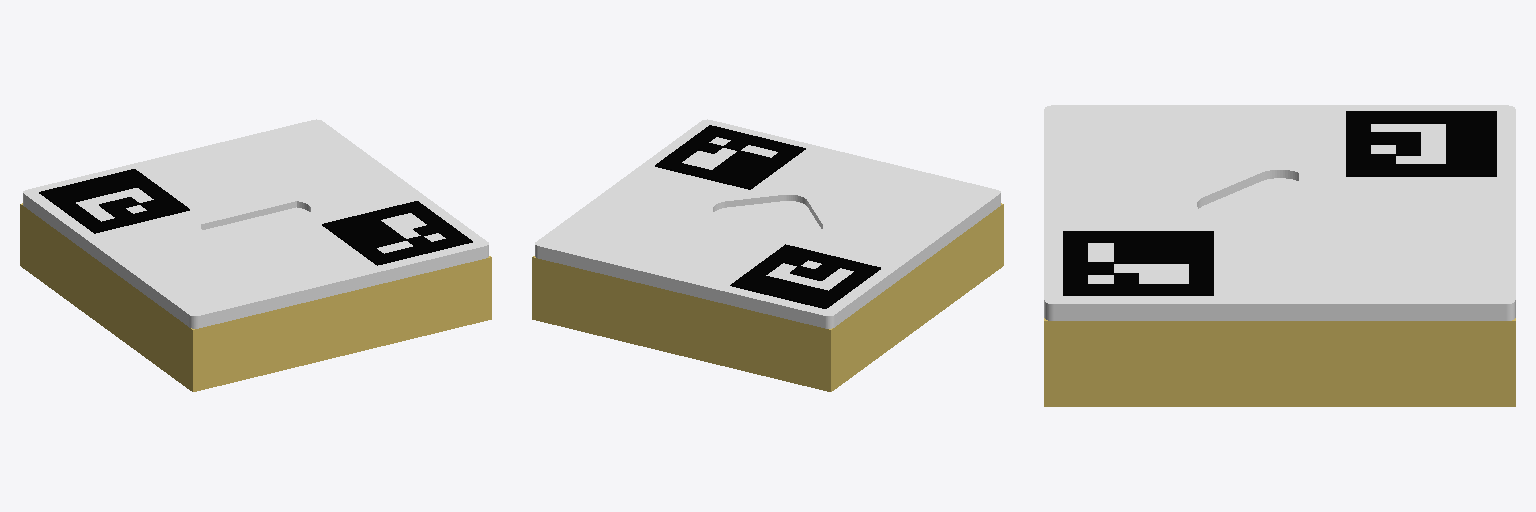
robot.urdf — base:
<?xml version="1.0"?>
<!-- base: standalone static model from base_01-02.step.
     Mesh in millimetres (scale 0.001). Link origin = STEP-file origin, unchanged.
     Mass/inertia assume density 1.24 g/cm^3 -> 94.8 g (material not given in the STEP). -->
<robot name="base">
  <material name="base_white"><color rgba="0.95 0.95 0.95 1.0"/></material>
  <material name="base_black"><color rgba="0.03 0.03 0.03 1.0"/></material>
  <material name="foam_yellow"><color rgba="0.90 0.80 0.45 1.0"/></material>
  <link name="base_link">
    <!-- white plate + black ArUco relief (split by step2stl.py); collision = whole base -->
    <visual>
      <geometry><mesh filename="meshes/base_plate.stl" scale="0.001 0.001 0.001"/></geometry>
      <material name="base_white"/>
    </visual>
    <visual>
      <geometry><mesh filename="meshes/base_markers.stl" scale="0.001 0.001 0.001"/></geometry>
      <material name="base_black"/>
    </visual>
    <collision>
      <geometry><mesh filename="meshes/base.stl" scale="0.001 0.001 0.001"/></geometry>
    </collision>
    <inertial>
      <origin xyz="-0.000007 0.000181 0.002541" rpy="0 0 0"/>
      <mass value="0.09475"/>
      <inertia ixx="1.2716e-04" ixy="2.5796e-06" ixz="1.8244e-09" iyy="1.2692e-04" iyz="-1.3724e-08" izz="2.5366e-04"/>
    </inertial>
  </link>

  <!-- foam pad under the base (measured: base + foam 30 mm high, foam has the
       base footprint); the assembly stands on the foam bottom, z = -25 mm -->
  <link name="foam">
    <visual>
      <origin xyz="0 0 -0.0125"/>
      <geometry><box size="0.125 0.125 0.025"/></geometry>
      <material name="foam_yellow"/>
    </visual>
    <collision>
      <origin xyz="0 0 -0.0125"/>
      <geometry><box size="0.125 0.125 0.025"/></geometry>
    </collision>
  </link>
  <joint name="base_link_to_foam" type="fixed">
    <parent link="base_link"/><child link="foam"/>
    <origin xyz="0 0 0" rpy="0 0 0"/>
  </joint>

  <!-- put any puzzle_X link origin here: its triangular foot (z -2.5..0) drops into the groove, groove floor at z=2.5 -->
  <link name="puzzle_mount"/>
  <joint name="base_link_to_puzzle_mount" type="fixed">
    <parent link="base_link"/><child link="puzzle_mount"/>
    <origin xyz="0.00000 0.00000 0.00500" rpy="0 0 0"/>
  </joint>

  <!-- centre of the ArUco 4x4 marker (40x40 mm, black relief z 5.0..5.6), upper-left -->
  <link name="guide_1"/>
  <joint name="base_link_to_guide_1" type="fixed">
    <parent link="base_link"/><child link="guide_1"/>
    <origin xyz="-0.03750 0.03750 0.00500" rpy="0 0 0"/>
  </joint>

  <!-- centre of the ArUco 4x4 marker (40x40 mm, black relief z 5.0..5.6), lower-right -->
  <link name="guide_2"/>
  <joint name="base_link_to_guide_2" type="fixed">
    <parent link="base_link"/><child link="guide_2"/>
    <origin xyz="0.03750 -0.03750 0.00500" rpy="0 0 0"/>
  </joint>
</robot>

--- Facts derived from the render (not from the file) ---
3 views of the same robot in one strip: view 1: azimuth 30°, elevation 25°; view 2: azimuth 150°, elevation 25°; view 3: azimuth 270°, elevation 25° (orthographic).
Model base with 5 links and 4 joints (4 fixed), rooted at base_link, posed every joint at zero.
Visible links, largest first — view 1: base_link, foam; view 2: base_link, foam; view 3: base_link, foam.
Boxes of the visible links, bbox=[...] form: base_link: bbox=[23, 119, 488, 328]; foam: bbox=[20, 203, 491, 391]; base_link: bbox=[535, 119, 1000, 328]; foam: bbox=[532, 203, 1003, 391]; base_link: bbox=[1044, 105, 1515, 320]; foam: bbox=[1044, 318, 1515, 406].
Size in the robot's own frame: 0.125 by 0.125 by 0.0306 metres.
Meshes: 2 distinct files referenced, 2 mesh visuals loaded (2 binary STL).
